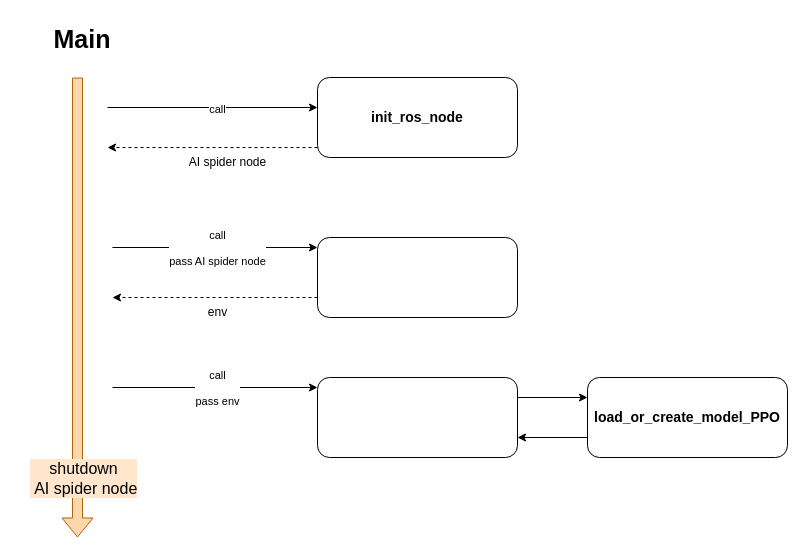
Image size: 805x554. Some labels were removed from this diagram. The centre of each missing label's shape, as x and y in pixels:
"gym_env_register" belongs at pixel 417 277.
"train_model_PPO" belongs at pixel 417 417.
